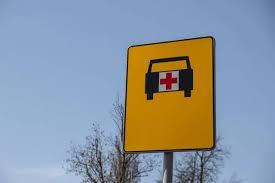Hospital: (130, 43, 203, 115)
